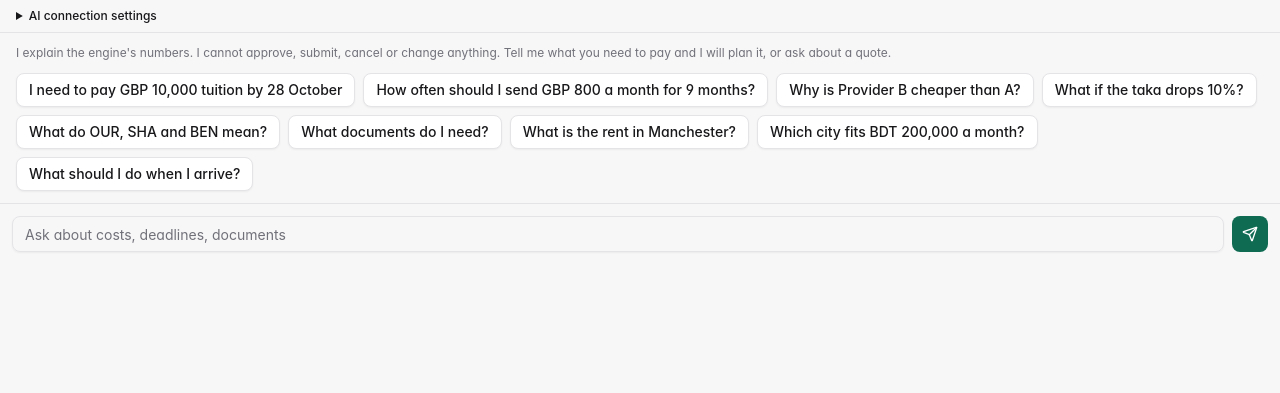
it: assistant chat › shows how the message was read: the intent, how sure the model was and each marked word
Step 1. Click the button "I need to pay GBP 10,000 tuition by 28 October" → (186, 90), box x1=16 y1=73 x2=355 y2=107
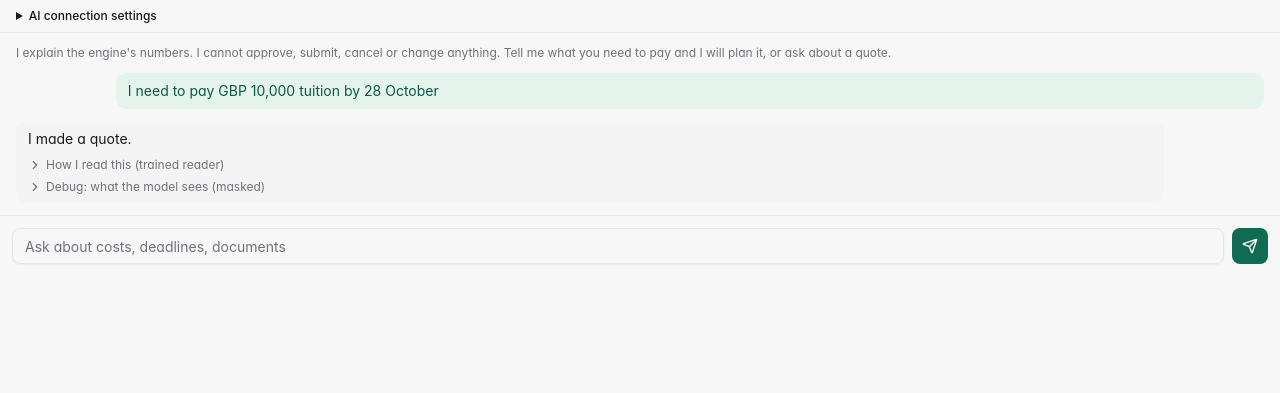
Step 2. Click the button "How I read this (trained reader)" → (126, 165), box x1=28 y1=157 x2=224 y2=173
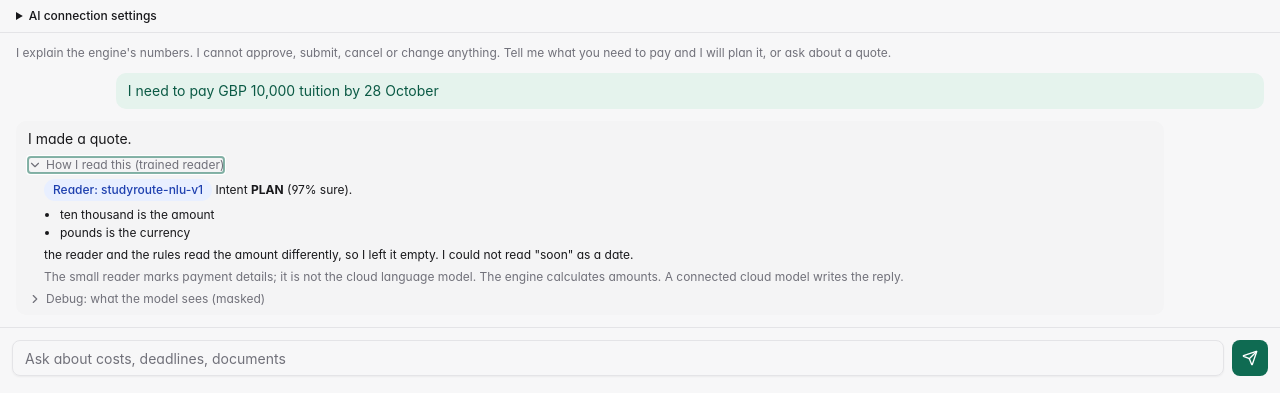
expect the text "Reader: studyroute-nlu-v1" is shown: met, box x1=44 y1=179 x2=212 y2=201
expect the text "Reader: studyroute-nlu-v1 Intent PLAN (97% sure)." is shown: met, box x1=44 y1=179 x2=352 y2=201
expect the text "ten thousand" is shown: met, box x1=60 y1=207 x2=134 y2=222
